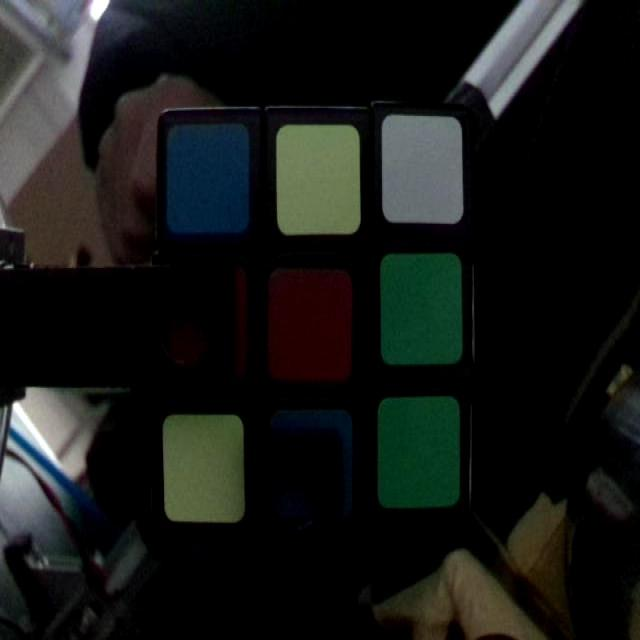b: (168, 124, 248, 228), (272, 417, 353, 512)
g: (375, 400, 459, 507), (382, 255, 459, 361)
r: (270, 266, 350, 371), (168, 268, 247, 374)
w: (384, 117, 461, 220)
y: (276, 124, 361, 237), (163, 414, 244, 520)
